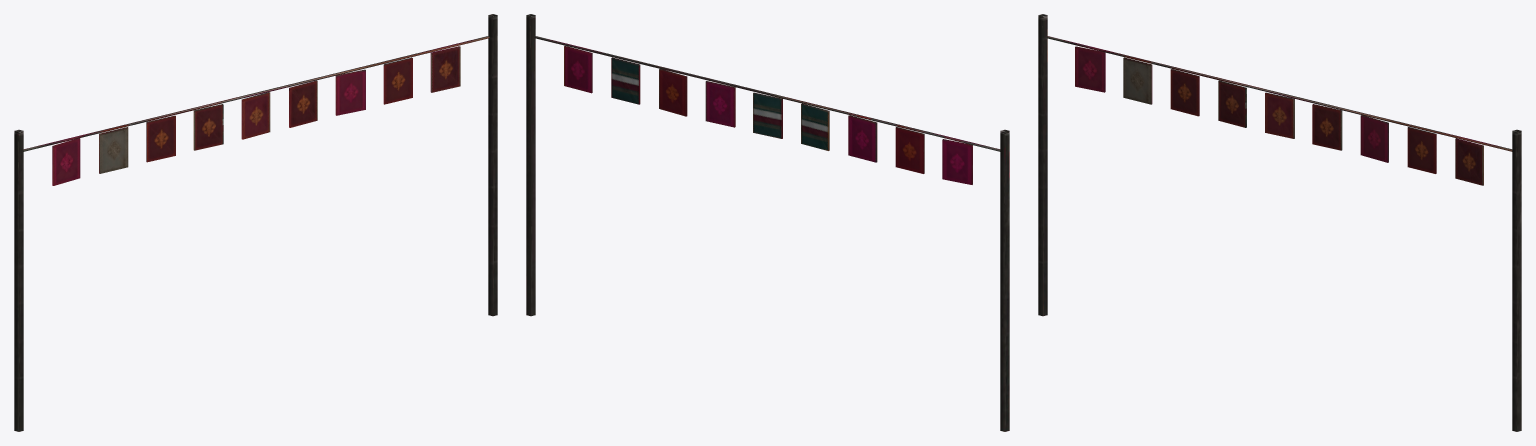
File: mana_flags_line.glb
3 views of the same model, side by side, from view 1: azimuth 30°, elevation 25°; view 2: azimuth 150°, elevation 25°; view 3: azimuth 330°, elevation 25° (orthographic).
Parts seen in each view (by area): view 1: mana_flags_line; view 2: mana_flags_line; view 3: mana_flags_line.
Boxes of the visible parts, box(x1,y1,x2,y2) form: mana_flags_line: box(14, 14, 497, 431); mana_flags_line: box(526, 14, 1009, 431); mana_flags_line: box(1038, 14, 1521, 431).
Size of the model in its own units: 5.1 by 3 by 0.0866.
Materials: 1 (1 with a texture image).
